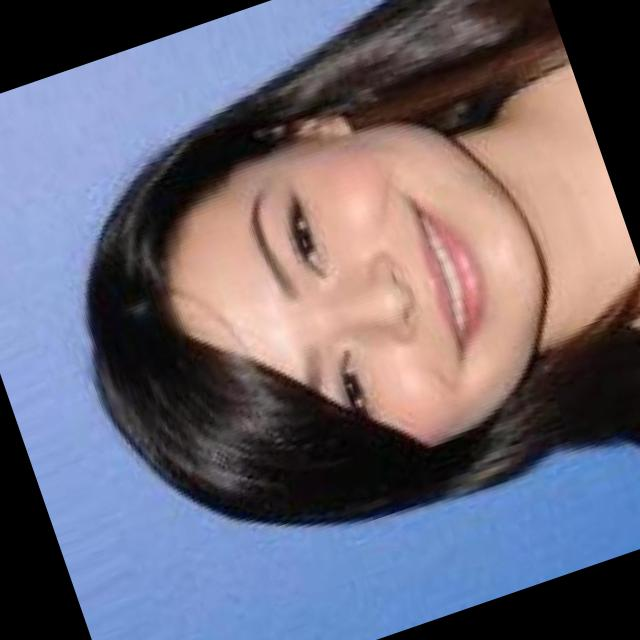bareface: (99, 54, 596, 518)
